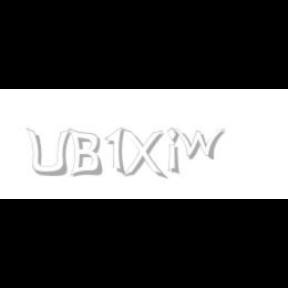1: (104, 128, 126, 176)
B: (68, 128, 102, 178)
U: (25, 128, 70, 178)
X: (121, 128, 165, 180)
i: (167, 128, 183, 176)
w: (170, 128, 230, 160)
